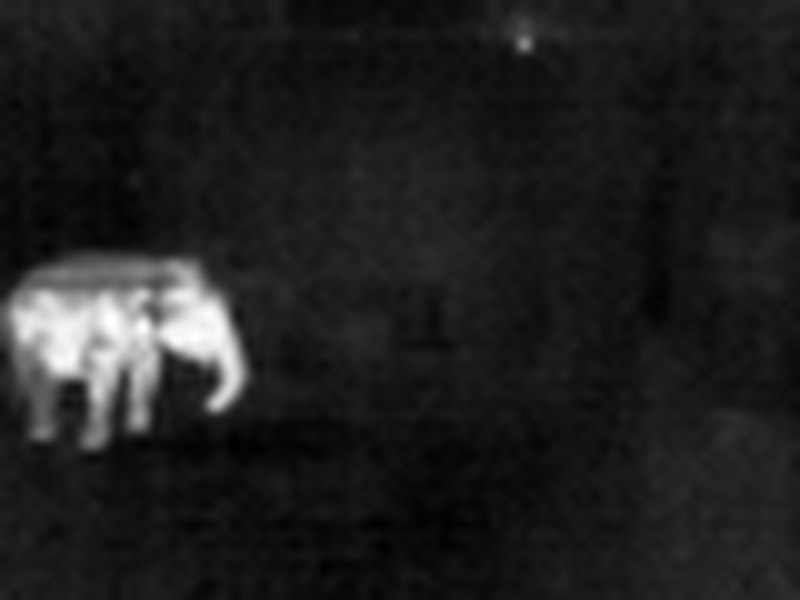elephant: (14, 232, 228, 451)
